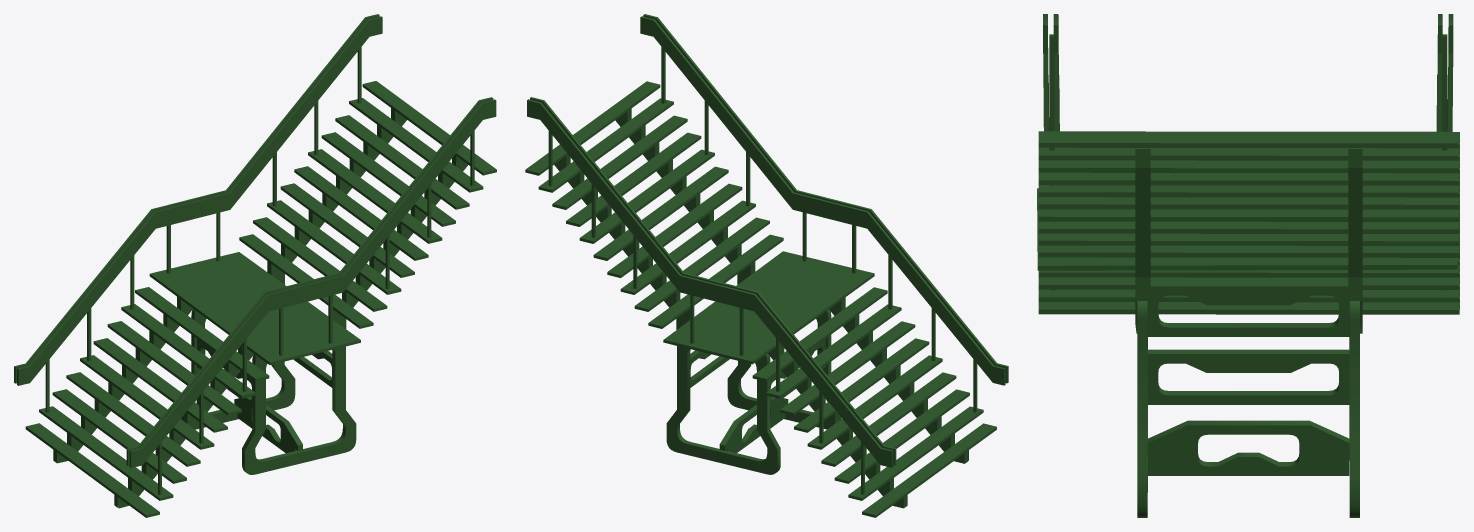
Rendered from SpiralStair_C.FBX.
3 views of the same model, side by side, from view 1: azimuth 30°, elevation 25°; view 2: azimuth 150°, elevation 25°; view 3: azimuth 270°, elevation 25° (orthographic). The views are drawn at different scales.
Visible parts, largest first — view 1: SpiralStair_C; view 2: SpiralStair_C; view 3: SpiralStair_C.
Part boxes in pixels (x1,y1,x2,y2): SpiralStair_C: [14, 14, 496, 517]; SpiralStair_C: [525, 14, 1008, 517]; SpiralStair_C: [1037, 14, 1459, 517].
Bounding box in the file's own units: 698 × 625 × 403.
